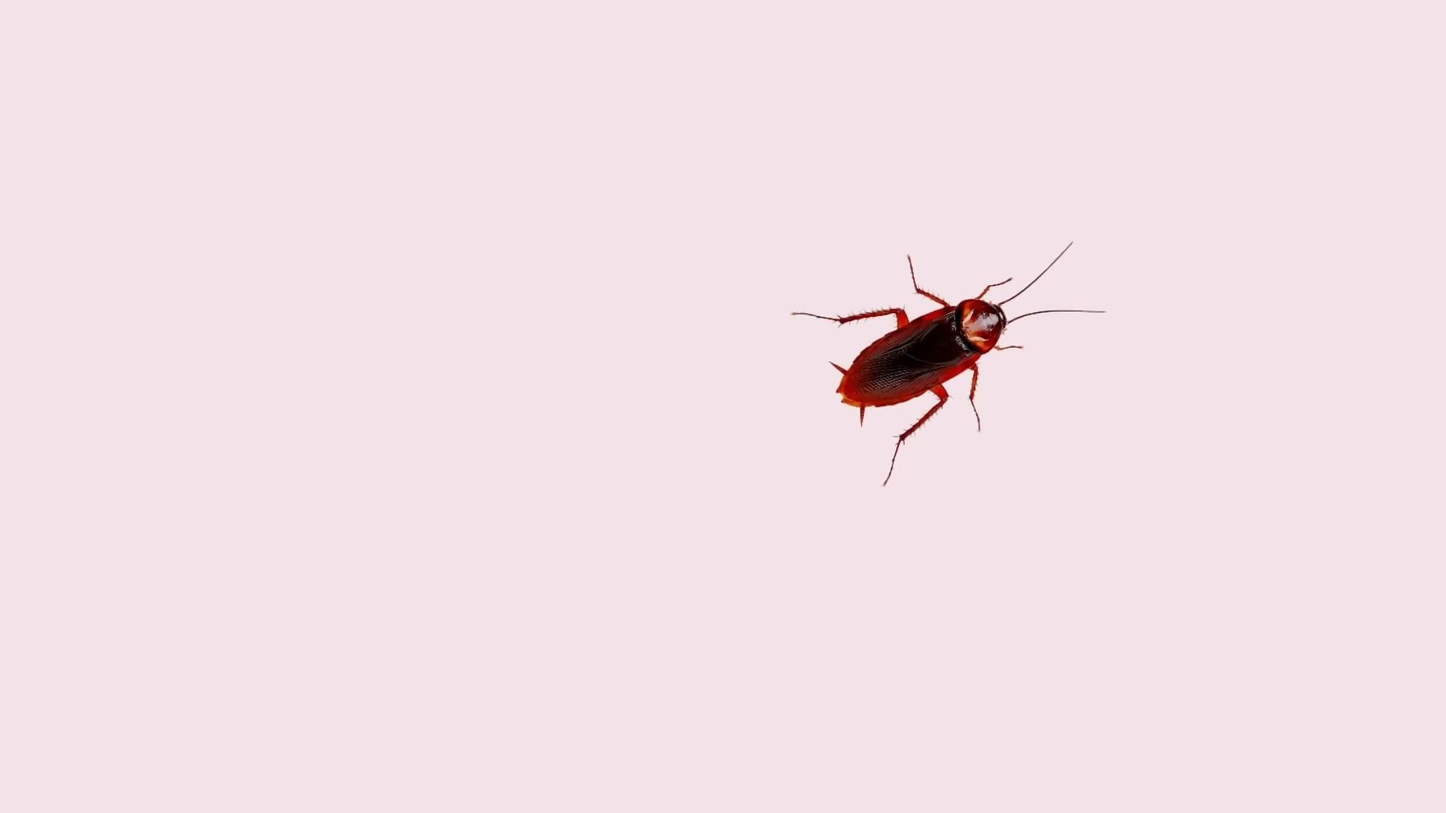cockroach: (816, 243, 1054, 461)
